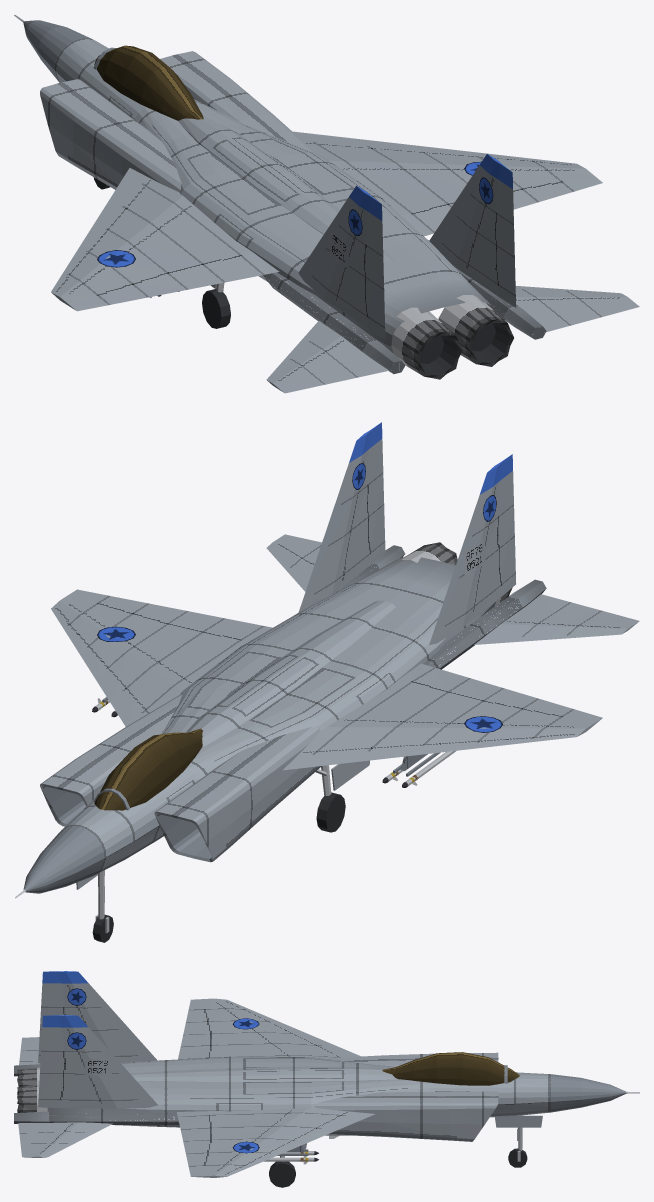
The picture shows the model from 3 angles, top to bottom: view 1: azimuth 30°, elevation 25°; view 2: azimuth 150°, elevation 25°; view 3: azimuth 270°, elevation 25°; orthographic projection. The views are drawn at different scales.
Visible parts, largest first — view 1: airframe, canopy, stab_l, stab_r, flap_l, rudder_r, rudder_l, aileron_l, gear_main_l, aileron_r, flap_r; view 2: airframe, canopy, stab_l, stab_r, flap_l, flap_r, gear_main_l, rudder_r, rudder_l, aileron_l, aileron_r, gear_nose; view 3: airframe, canopy, stab_r, rudder_r, flap_r, flap_l, gear_main_r, aileron_r, door_nose, aileron_l, stab_l, gear_nose (+1 smaller).
Part boxes in pixels (x1,y1,x2,y2): airframe: [14, 15, 602, 379]; canopy: [93, 45, 203, 120]; stab_l: [266, 321, 388, 393]; stab_r: [515, 286, 639, 332]; flap_l: [169, 254, 264, 289]; rudder_r: [495, 212, 515, 294]; rudder_l: [365, 244, 384, 326]; aileron_l: [100, 273, 187, 304]; gear_main_l: [202, 282, 230, 328]; aileron_r: [513, 182, 571, 209]; flap_r: [410, 202, 453, 232]; airframe: [15, 422, 602, 898]; canopy: [93, 728, 203, 810]; stab_l: [474, 594, 639, 644]; stab_r: [266, 534, 321, 591]; flap_l: [410, 667, 502, 700]; flap_r: [169, 611, 264, 640]; gear_main_l: [315, 765, 345, 832]; rudder_r: [367, 472, 384, 552]; rudder_l: [498, 504, 515, 584]; aileron_l: [483, 688, 571, 716]; aileron_r: [100, 596, 187, 623]; gear_nose: [92, 870, 113, 942]; airframe: [14, 971, 639, 1177]; canopy: [382, 1052, 519, 1085]; stab_r: [18, 1122, 112, 1157]; rudder_r: [38, 1050, 64, 1099]; flap_r: [178, 1115, 211, 1141]; flap_l: [178, 1034, 211, 1059]; gear_main_r: [269, 1156, 295, 1187]; aileron_r: [183, 1140, 210, 1165]; door_nose: [495, 1115, 542, 1127]; aileron_l: [183, 1010, 210, 1035]; stab_l: [19, 1037, 40, 1065]; gear_nose: [508, 1115, 527, 1167].
Size of the model in its own units: 13.04 by 5.95 by 19.47.
6 materials, 6 textured.
